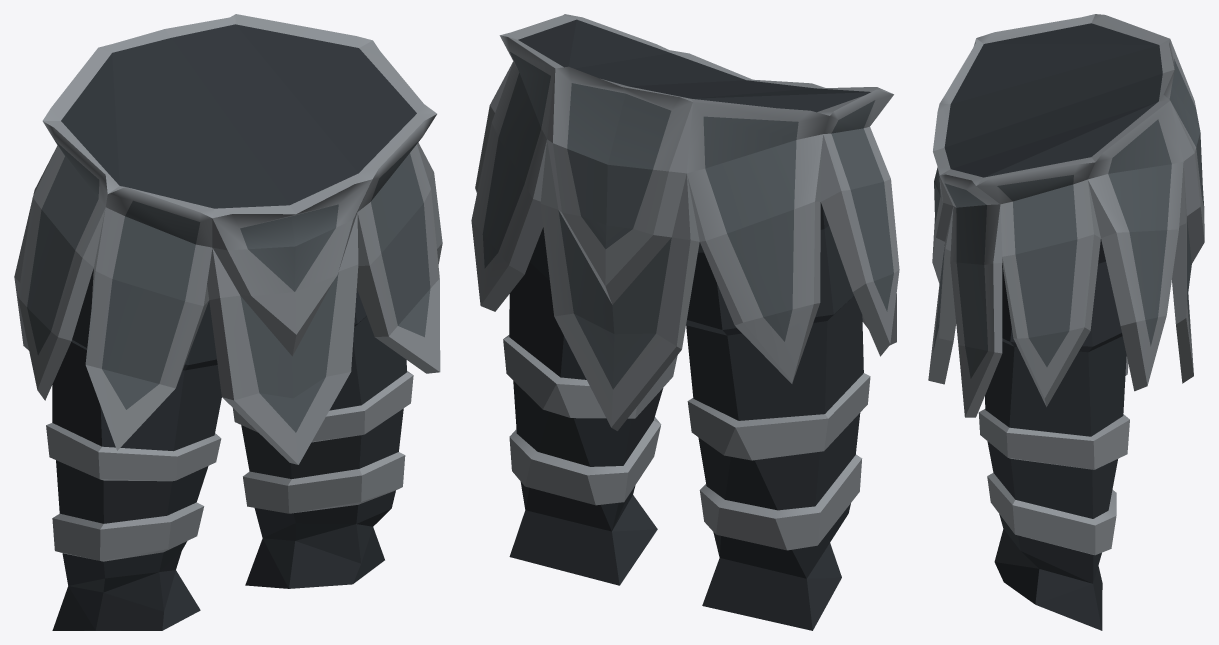
The model's file is Chr_Hips_Female_15_Static.fbx.
The picture shows the model from 3 angles, left to right: view 1: azimuth 30°, elevation 25°; view 2: azimuth 150°, elevation 25°; view 3: azimuth 270°, elevation 25°; orthographic projection. The views are drawn at different scales.
Parts seen in each view (by area): view 1: Chr_Hips_Female_15_Static; view 2: Chr_Hips_Female_15_Static; view 3: Chr_Hips_Female_15_Static.
Boxes of the visible parts, x1=… form: Chr_Hips_Female_15_Static: x1=14, y1=14, x2=442, y2=630; Chr_Hips_Female_15_Static: x1=471, y1=14, x2=899, y2=630; Chr_Hips_Female_15_Static: x1=928, y1=14, x2=1204, y2=630.
Bounding box in the file's own units: 0.4473 × 0.5822 × 0.2939.
